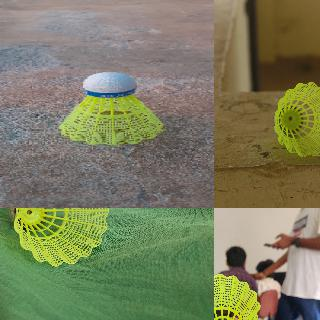shuttlecock: (58, 72, 163, 145), (8, 208, 108, 267), (274, 81, 319, 157), (214, 272, 260, 319)
